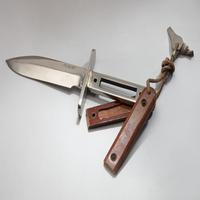knife: (4, 53, 165, 112)
